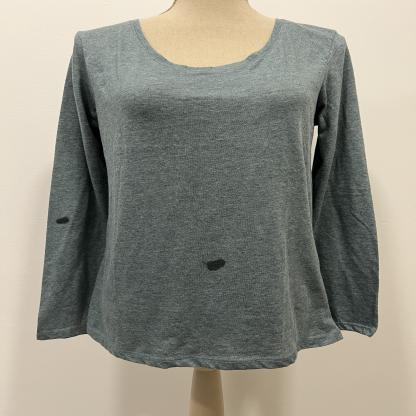stain: (200, 256, 228, 272), (54, 216, 71, 225)
